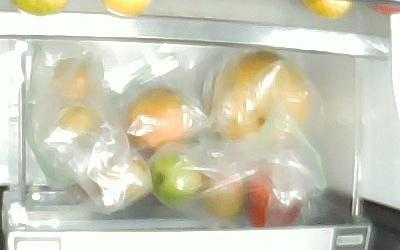peach_vinyl: (122, 87, 191, 153)
pear_vinyl: (215, 50, 309, 144)
tangerine_vinyl: (49, 56, 89, 103), (53, 101, 98, 138)
tomato_vinyl: (245, 170, 302, 227), (149, 151, 200, 203), (201, 168, 246, 219)
